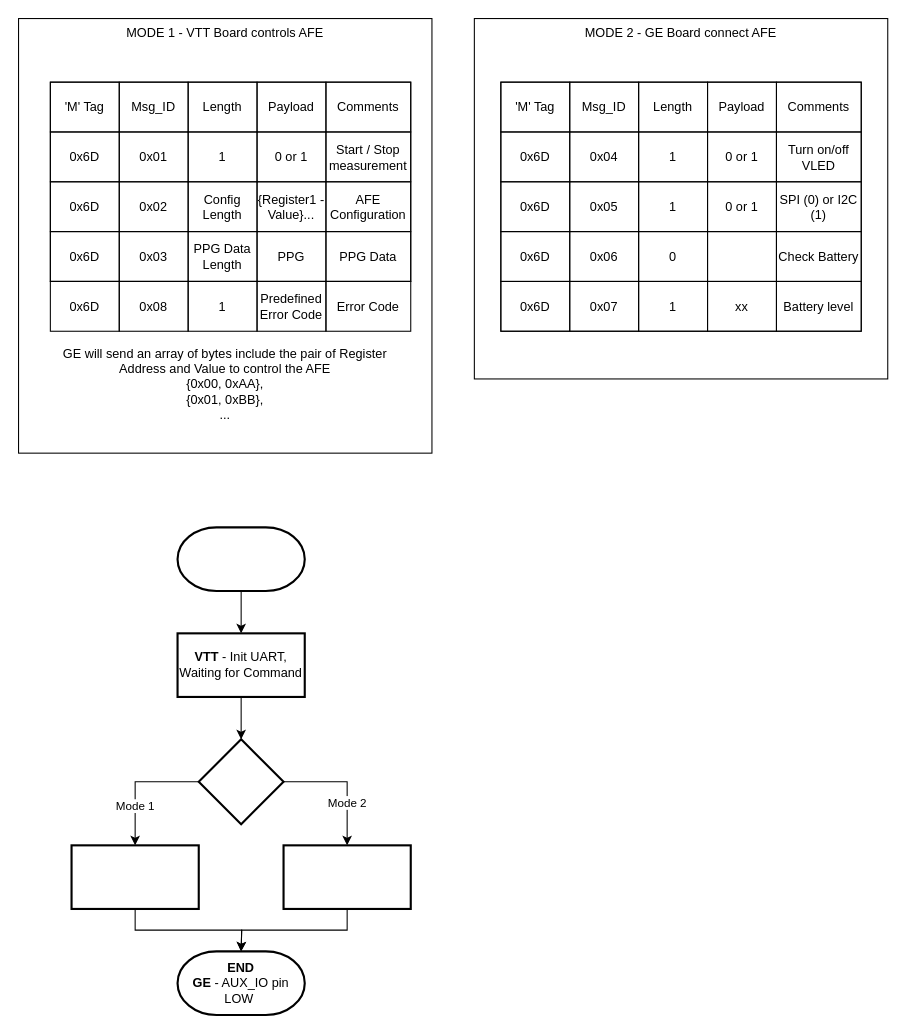
Some shapes in this 906 by 1035 pixel diagram are drawn without their labels. The centre of each missing label's shape, as x and y in pixels:
"Init AFE according to GE configuration, send data via UART" goes at [134,876].
"Init IO pins, LDO and go to sleep, waiting for next command" goes at [346,876].
"Mode?" goes at [240,781].
"START GE - AUX_IO pin HIGH" goes at [240,558].
